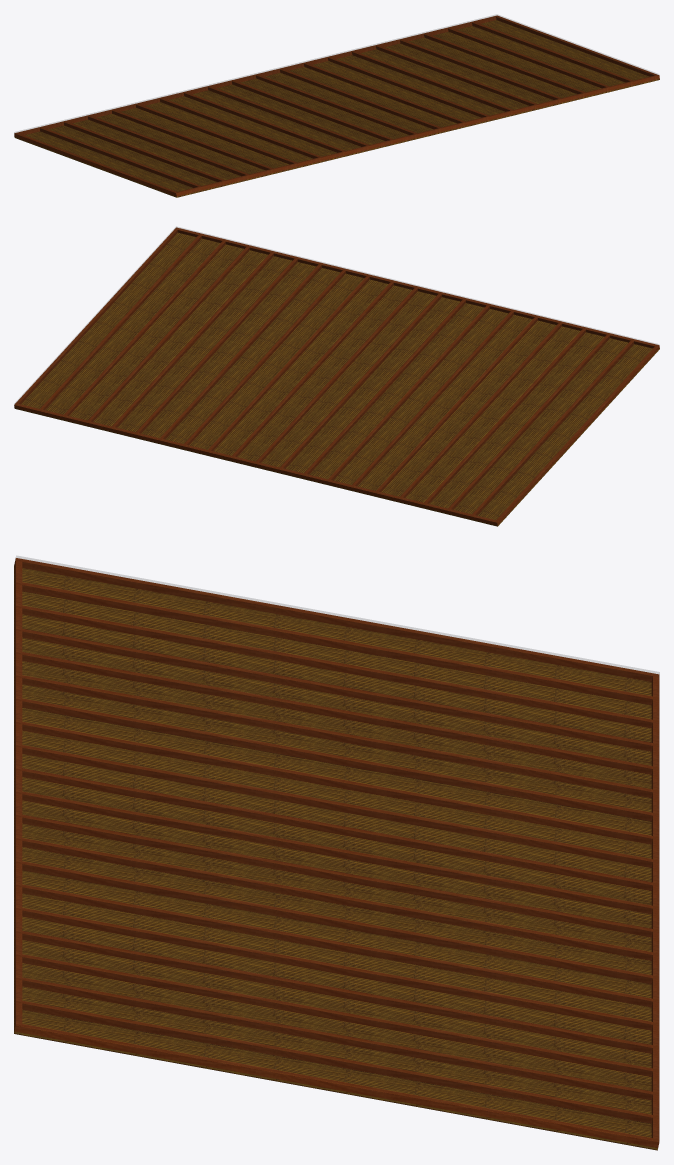
Rendered from 11 CUBIERTA.glb.
3 views of the same model, one above another, from view 1: azimuth 30°, elevation 25°; view 2: azimuth 150°, elevation 25°; view 3: azimuth 270°, elevation 25° (orthographic). The views are drawn at different scales.
Visible parts, largest first — view 1: 152031, 152030, Component#1 (×21); view 2: 152031, 152030, Component#1 (×21); view 3: 152031, 152030, Component#1 (×21).
Part boxes in pixels (x1,y1,x2,y2): 152031: [14, 15, 658, 192]; 152030: [14, 20, 659, 197]; Component#1 (×21): [14, 15, 659, 196]; 152031: [14, 227, 658, 521]; 152030: [14, 232, 659, 526]; Component#1 (×21): [14, 227, 659, 525]; 152031: [16, 556, 659, 1141]; 152030: [14, 564, 657, 1150]; Component#1 (×21): [14, 558, 659, 1147].
Size of the model in its own units: 8.25 by 1.05 by 4.81.
277 materials, 264 textured.
